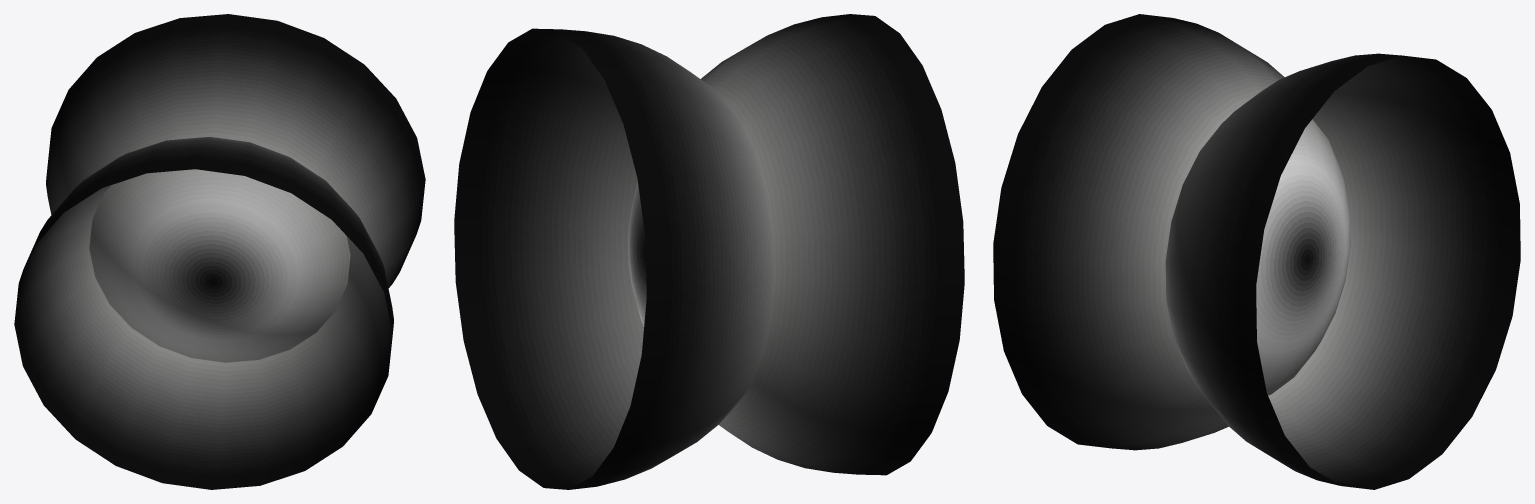
Rendered from GoFestRing.fbx.
3 views of the same model, side by side, from view 1: azimuth 30°, elevation 25°; view 2: azimuth 150°, elevation 25°; view 3: azimuth 270°, elevation 25° (orthographic). The views are drawn at different scales.
Visible parts, largest first — view 1: GoFestRingGlow; view 2: GoFestRingGlow; view 3: GoFestRingGlow.
Boxes of the visible parts, x1,y1,x2,y2 form: GoFestRingGlow: [14, 14, 425, 489]; GoFestRingGlow: [454, 14, 964, 489]; GoFestRingGlow: [993, 14, 1520, 489].
Size of the model in its own units: 11.38 by 9.99 by 10.99.
